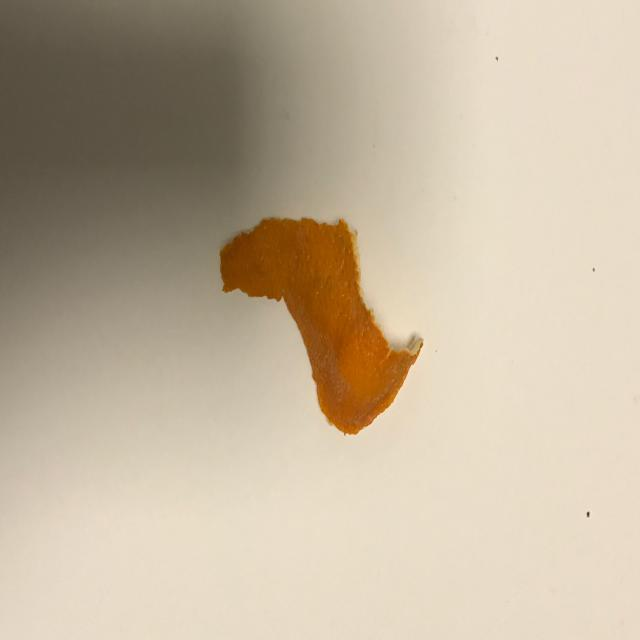trash: (219, 215, 424, 436)
